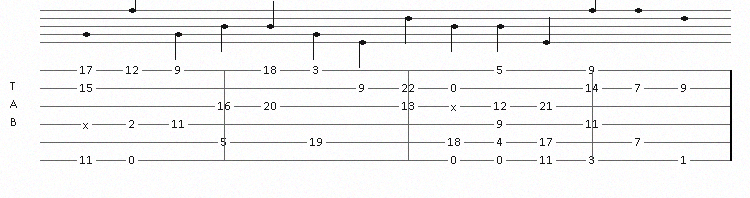0: (128, 154, 139, 166), (450, 82, 461, 94), (450, 154, 461, 166), (496, 154, 507, 166)
1: (680, 154, 691, 166)
11: (79, 154, 97, 166), (171, 118, 189, 130), (539, 154, 557, 166), (585, 118, 603, 130)
12: (125, 64, 143, 76), (493, 100, 511, 112)
13: (401, 100, 419, 112)
14: (585, 82, 603, 94)
15: (79, 82, 97, 94)
16: (217, 100, 235, 112)
17: (79, 64, 97, 76), (539, 136, 557, 148)
18: (263, 64, 281, 76), (447, 136, 465, 148)
19: (309, 136, 327, 148)
2: (128, 118, 139, 130)
20: (263, 100, 281, 112)
21: (539, 100, 557, 112)
22: (401, 82, 419, 94)
3: (312, 64, 323, 76), (588, 154, 599, 166)
4: (496, 136, 507, 148)
5: (220, 136, 231, 148), (496, 64, 507, 76)
7: (634, 82, 645, 94), (634, 136, 645, 148)
9: (174, 64, 185, 76), (358, 82, 369, 94), (496, 118, 507, 130), (588, 64, 599, 76), (680, 82, 691, 94)
x: (83, 119, 93, 129), (451, 101, 461, 111)
